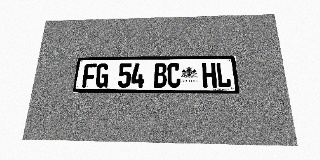4: (131, 63, 145, 88)
5: (118, 63, 132, 88)
B: (154, 63, 167, 88)
C: (167, 63, 181, 88)
F: (82, 64, 97, 88)
G: (95, 64, 109, 88)
H: (202, 63, 217, 88)
L: (216, 62, 231, 88)
